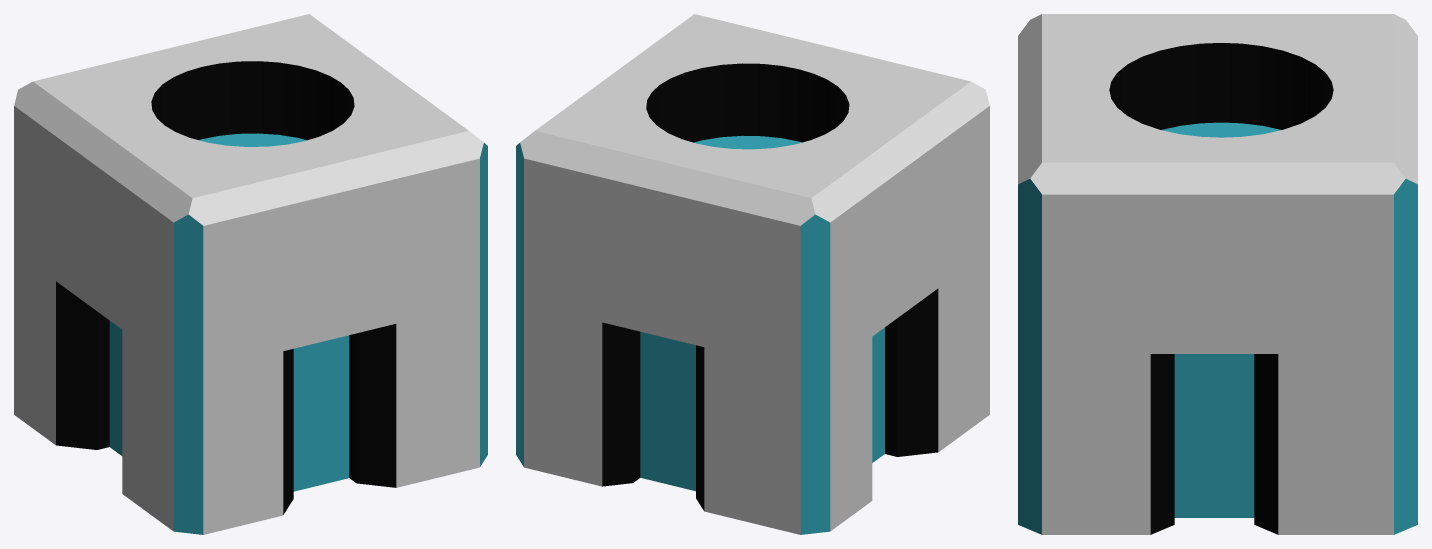
3 views of the same model, side by side, from view 1: azimuth 30°, elevation 25°; view 2: azimuth 150°, elevation 25°; view 3: azimuth 270°, elevation 25° (orthographic). The views are drawn at different scales.
Visible parts, largest first — view 1: Body1; view 2: Body1; view 3: Body1.
Boxes of the visible parts, x1=… form: Body1: x1=14, y1=14, x2=487, y2=534; Body1: x1=516, y1=14, x2=989, y2=534; Body1: x1=1018, y1=14, x2=1417, y2=534.
Size of the model in its own units: 50 by 50 by 50.
